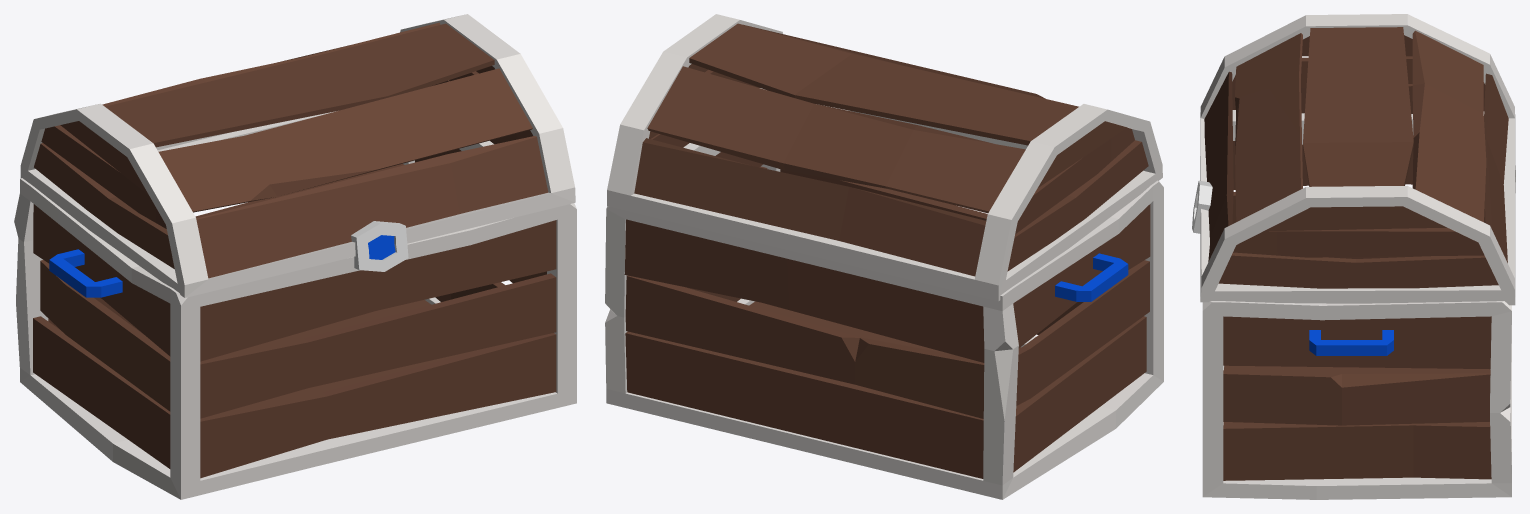
Rendered from Treasure_Chest.fbx.
3 renders of one model, left to right at view 1: azimuth 30°, elevation 25°; view 2: azimuth 150°, elevation 25°; view 3: azimuth 270°, elevation 25°, orthographic. The views are drawn at different scales.
Parts seen in each view (by area): view 1: Treasure Chest.001, Treasure Chest Lid.001; view 2: Treasure Chest.001, Treasure Chest Lid.001; view 3: Treasure Chest Lid.001, Treasure Chest.001.
Boxes of the visible parts, x1,y1,x2,y2 form: Treasure Chest.001: (14,111,576,499); Treasure Chest Lid.001: (20,14,575,297); Treasure Chest.001: (605,105,1163,499); Treasure Chest Lid.001: (607,14,1162,301); Treasure Chest Lid.001: (1192,14,1515,305); Treasure Chest.001: (1202,133,1515,499).
Size of the model in its own units: 0.8188 by 0.5399 by 0.5266.
